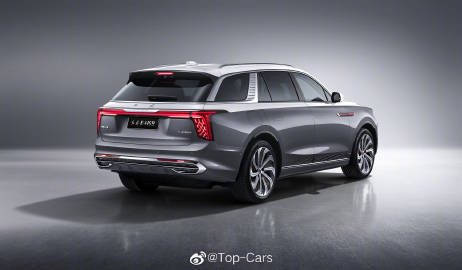other: (88, 58, 385, 189)
